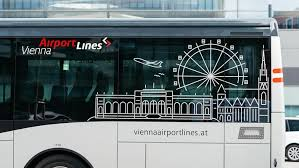bus: (1, 16, 287, 168)
